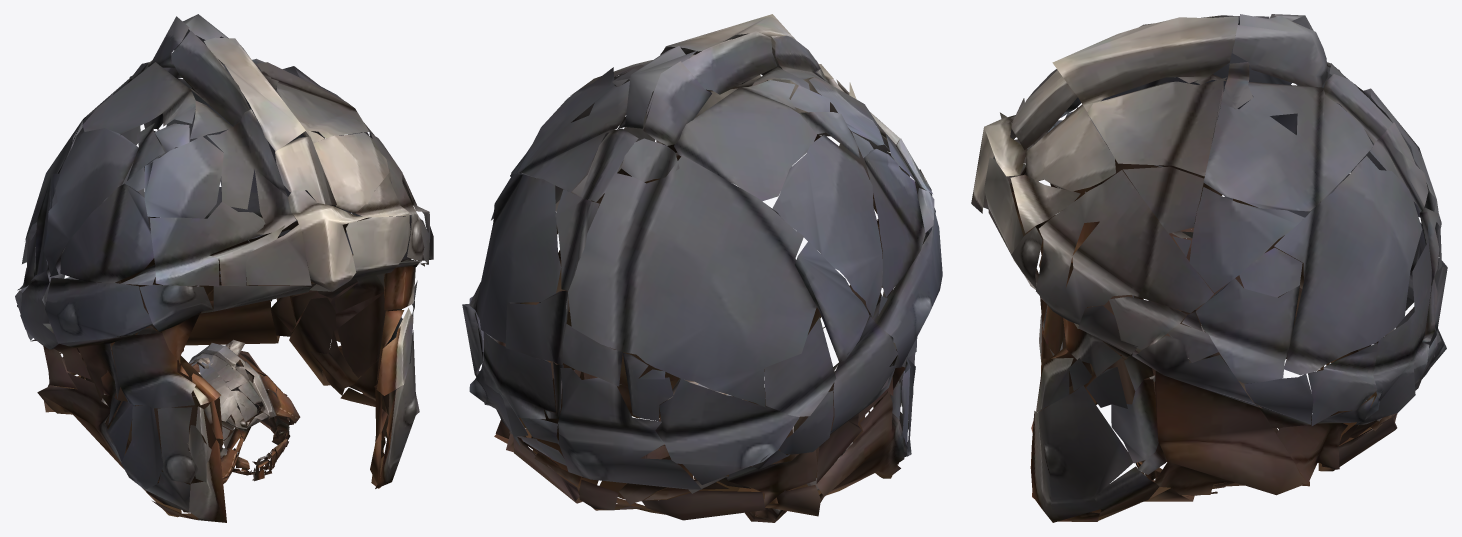
Rendered from parts_n.glb.
3 views of the same model, side by side, from view 1: azimuth 30°, elevation 25°; view 2: azimuth 150°, elevation 25°; view 3: azimuth 270°, elevation 25° (orthographic). The views are drawn at different scales.
Parts seen in each view (by area): view 1: helm, pauldron, gauntlet; view 2: helm, pauldron; view 3: helm.
Boxes of the visible parts, box(x1,y1,x2,y2) form: helm: box(15, 14, 433, 522); pauldron: box(189, 343, 300, 483); gauntlet: box(101, 339, 267, 428); helm: box(462, 14, 942, 520); pauldron: box(641, 384, 786, 522); helm: box(971, 14, 1447, 522).
Bounding box in the file's own units: 0.7893 × 0.8793 × 0.8281.
Materials: 1 (1 with a texture image).
